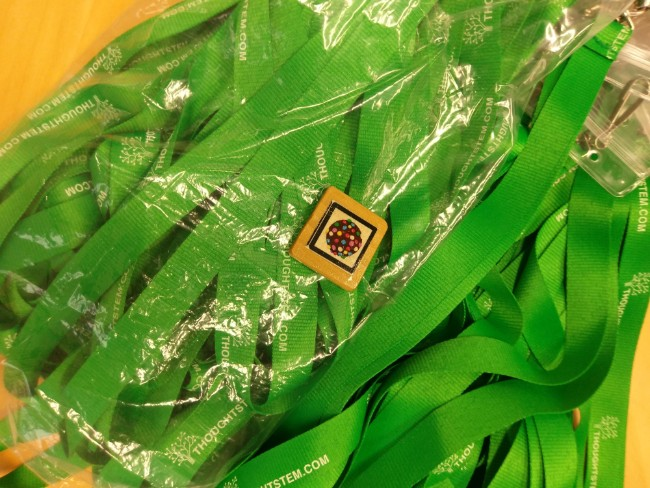cookie: (289, 195, 390, 288)
